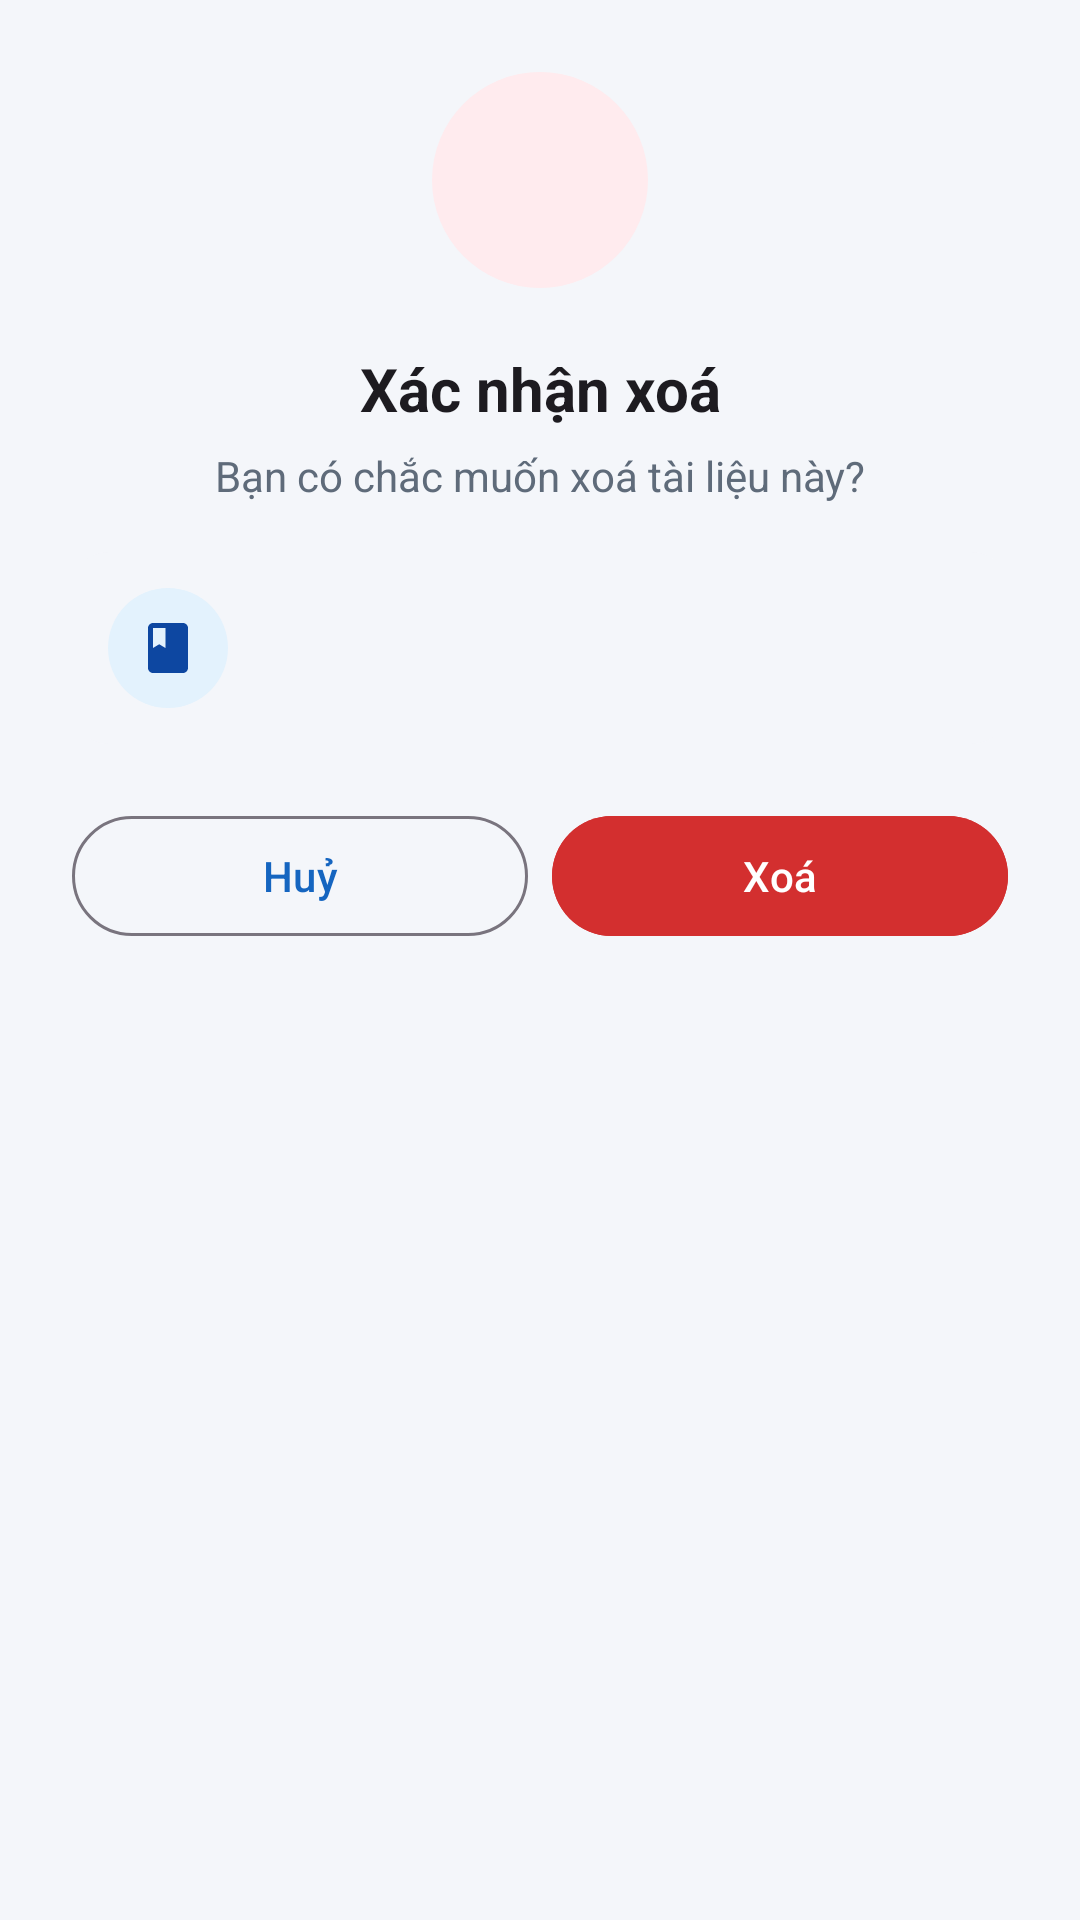

Screen size 1080 x 1920. Icon name, then its box in pixels as (x1, y1, x2, y2):
Loại tài liệu: (148, 623, 188, 673)
